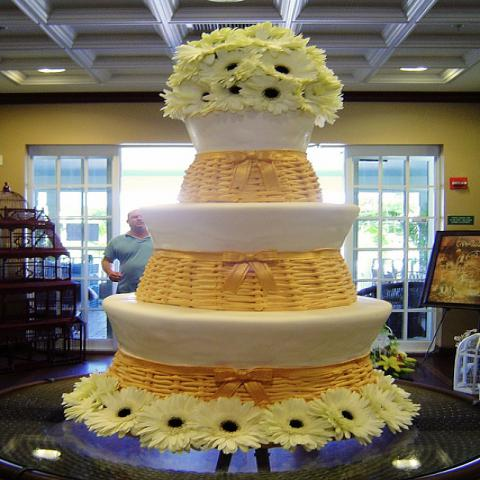car: (358, 279, 434, 343)
